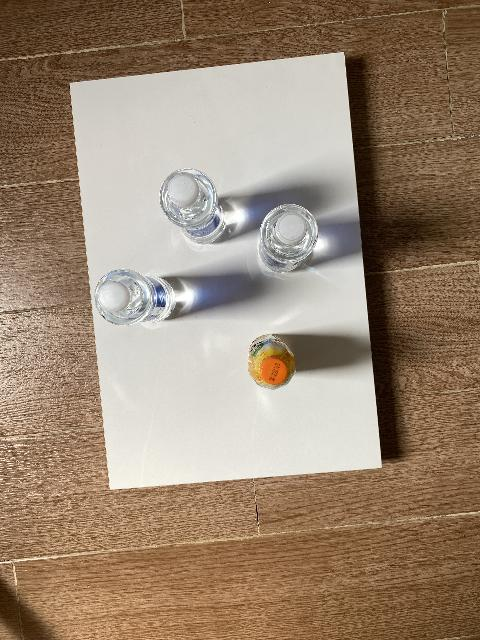aquafina: (159, 168, 226, 245), (94, 268, 176, 327), (259, 204, 318, 273)
teppy_orange_juice: (248, 334, 296, 390)
